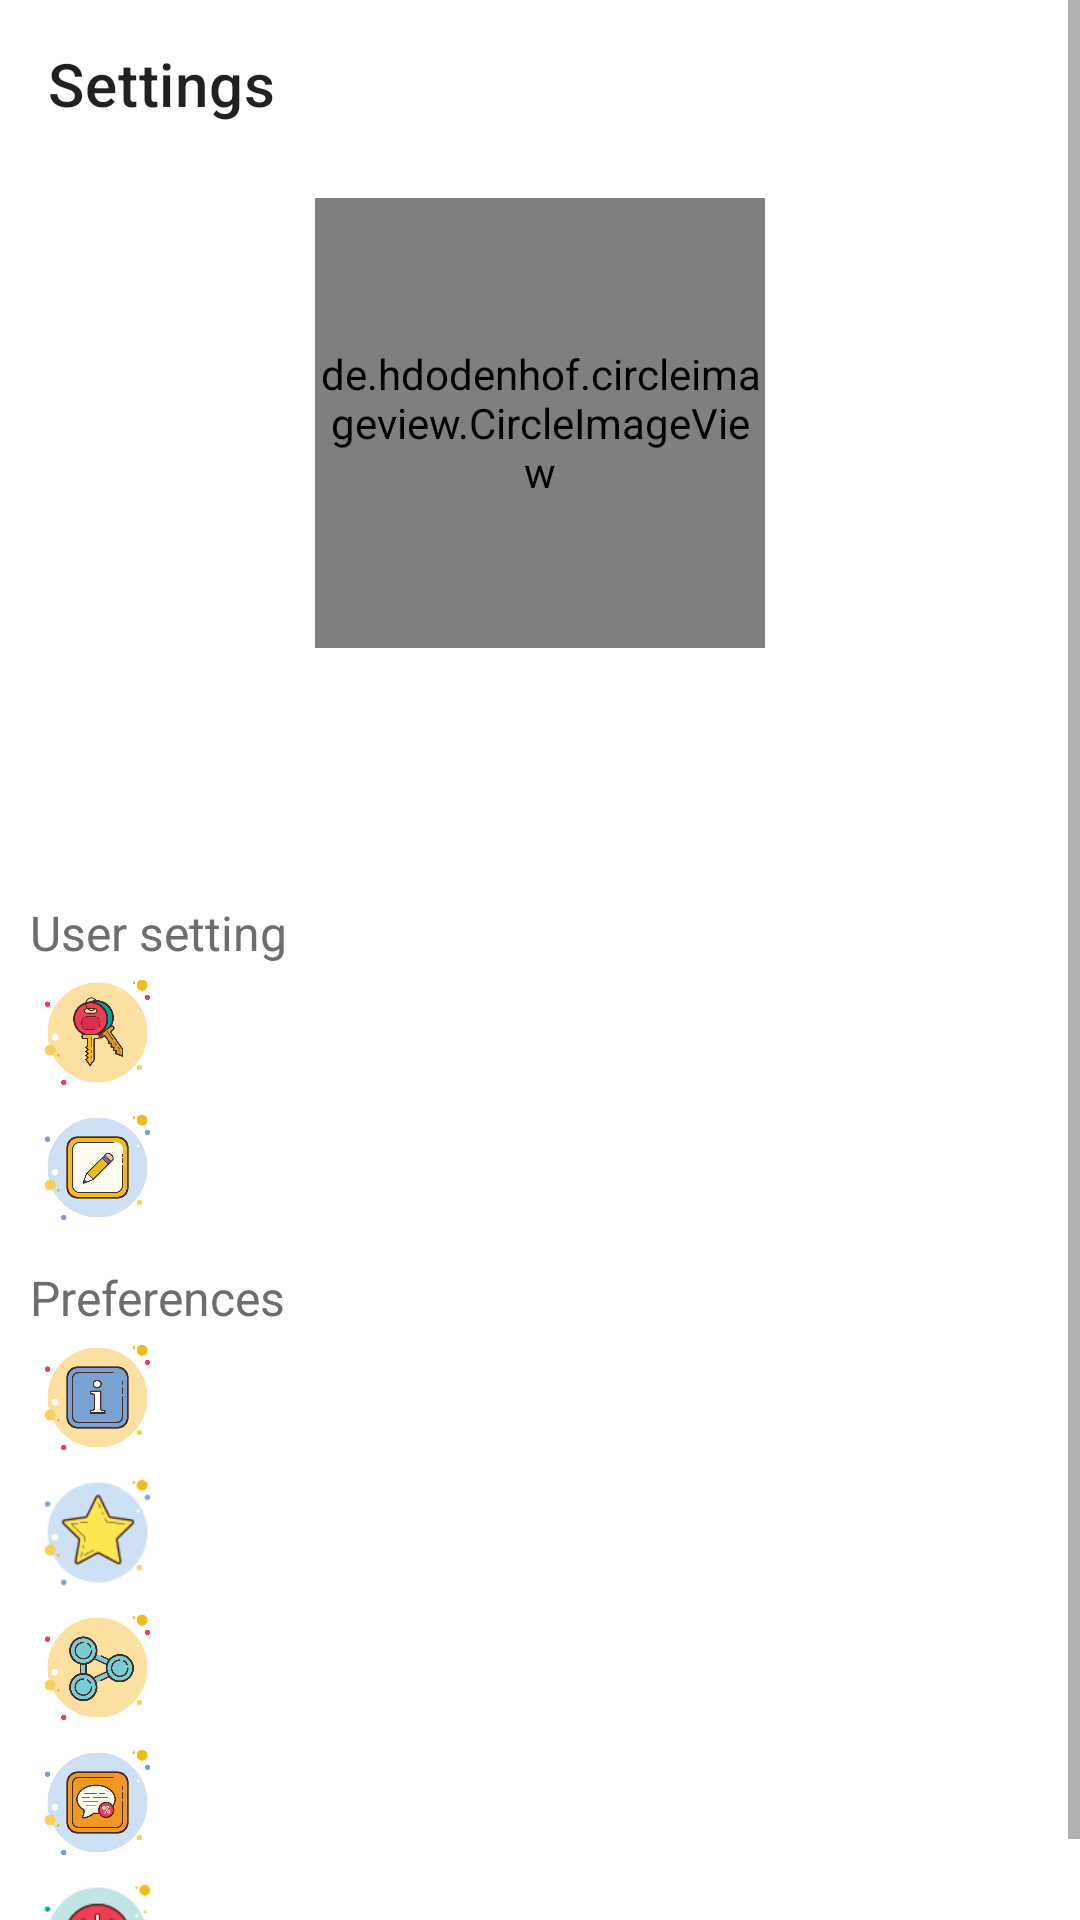

Screen size 1080px x 1920px. Icon name, then its center in pixels as point (x, y):
edit: point (97, 1167)
key: point (97, 1032)
star: point (97, 1532)
